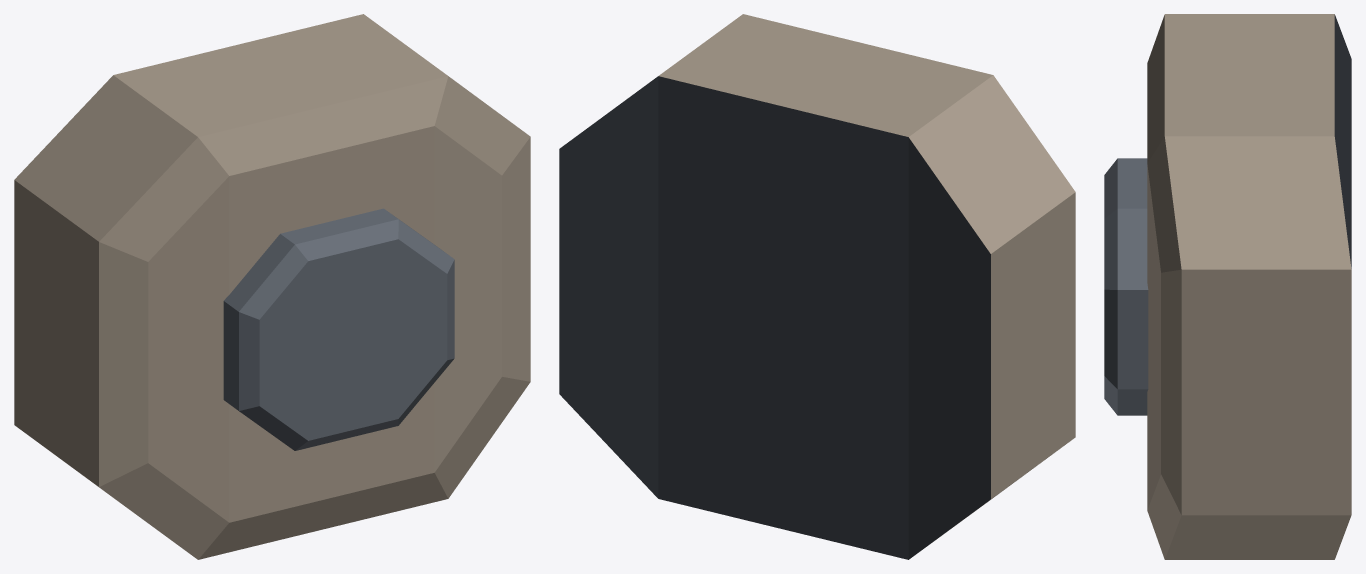
The model's file is knee_medium.glb.
The picture shows the model from 3 angles, left to right: view 1: azimuth 30°, elevation 25°; view 2: azimuth 150°, elevation 25°; view 3: azimuth 270°, elevation 25°; orthographic projection.
Parts seen in each view (by area): view 1: knee_medium; view 2: knee_medium; view 3: knee_medium.
Part boxes in pixels (left/top/right/bottom): knee_medium: left=14, top=14, right=530, bottom=559; knee_medium: left=559, top=14, right=1075, bottom=559; knee_medium: left=1104, top=14, right=1351, bottom=559.
Bounding box in the file's own units: 0.94 × 0.88 × 0.4652.
